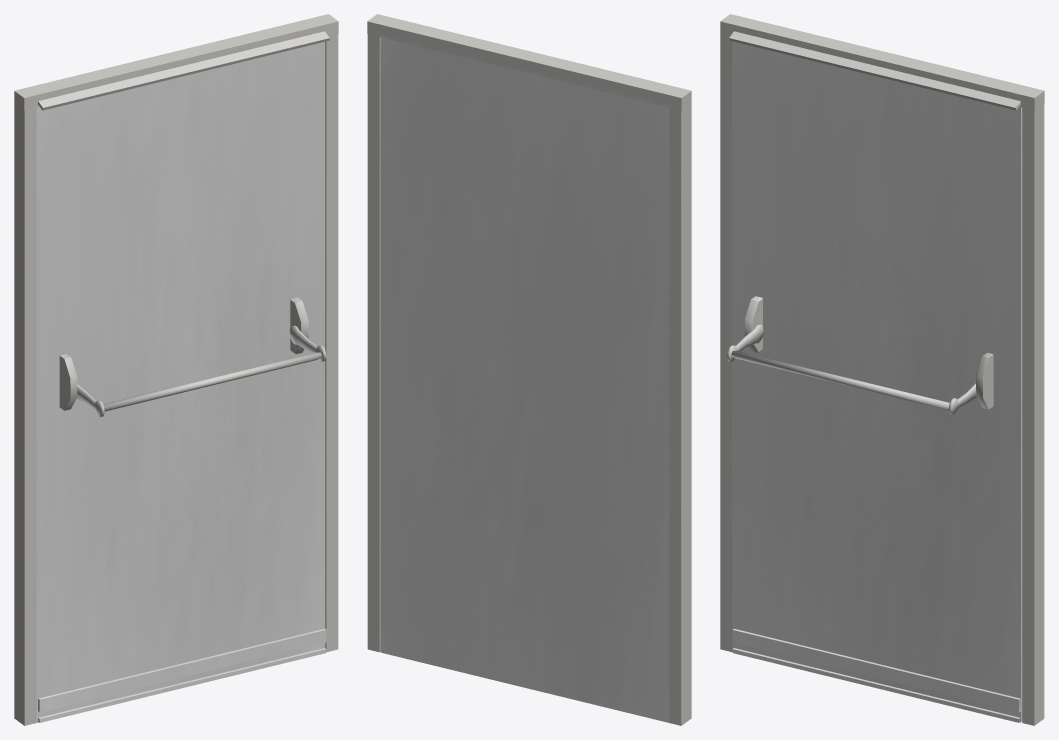
Rendered from Door.fbx.
The picture shows the model from 3 angles, left to right: view 1: azimuth 30°, elevation 25°; view 2: azimuth 150°, elevation 25°; view 3: azimuth 330°, elevation 25°; orthographic projection.
Parts seen in each view (by area): view 1: polySurface1, polySurface6, polySurface5, polySurface9, polySurface3, polySurface8, handle3, polySurface4, handle1, handle2; view 2: polySurface1, polySurface6, polySurface5, polySurface9; view 3: polySurface1, polySurface5, polySurface6, polySurface9, polySurface3, polySurface8, handle3, polySurface4, handle2, handle1.
Part boxes in pixels (box(x1,y1,x2,y2)): polySurface1: box(36, 42, 325, 722); polySurface6: box(14, 103, 36, 725); polySurface5: box(325, 30, 338, 652); polySurface9: box(14, 14, 338, 110); polySurface3: box(38, 628, 326, 712); polySurface8: box(38, 31, 329, 110); handle3: box(76, 325, 326, 417); polySurface4: box(38, 648, 326, 722); handle1: box(59, 354, 77, 410); handle2: box(290, 297, 308, 354); polySurface1: box(380, 33, 669, 722); polySurface6: box(669, 103, 691, 725); polySurface5: box(367, 30, 380, 652); polySurface9: box(367, 14, 691, 110); polySurface1: box(732, 32, 1022, 722); polySurface5: box(1022, 103, 1044, 725); polySurface6: box(720, 29, 732, 651); polySurface9: box(720, 14, 1044, 110); polySurface3: box(732, 628, 1020, 712); polySurface8: box(729, 31, 1020, 110); handle3: box(727, 324, 976, 414); polySurface4: box(732, 648, 1020, 722); handle2: box(976, 352, 993, 409); handle1: box(744, 296, 762, 352).
Size of the model in its own units: 0.0103 by 0.0196 by 0.00259.
